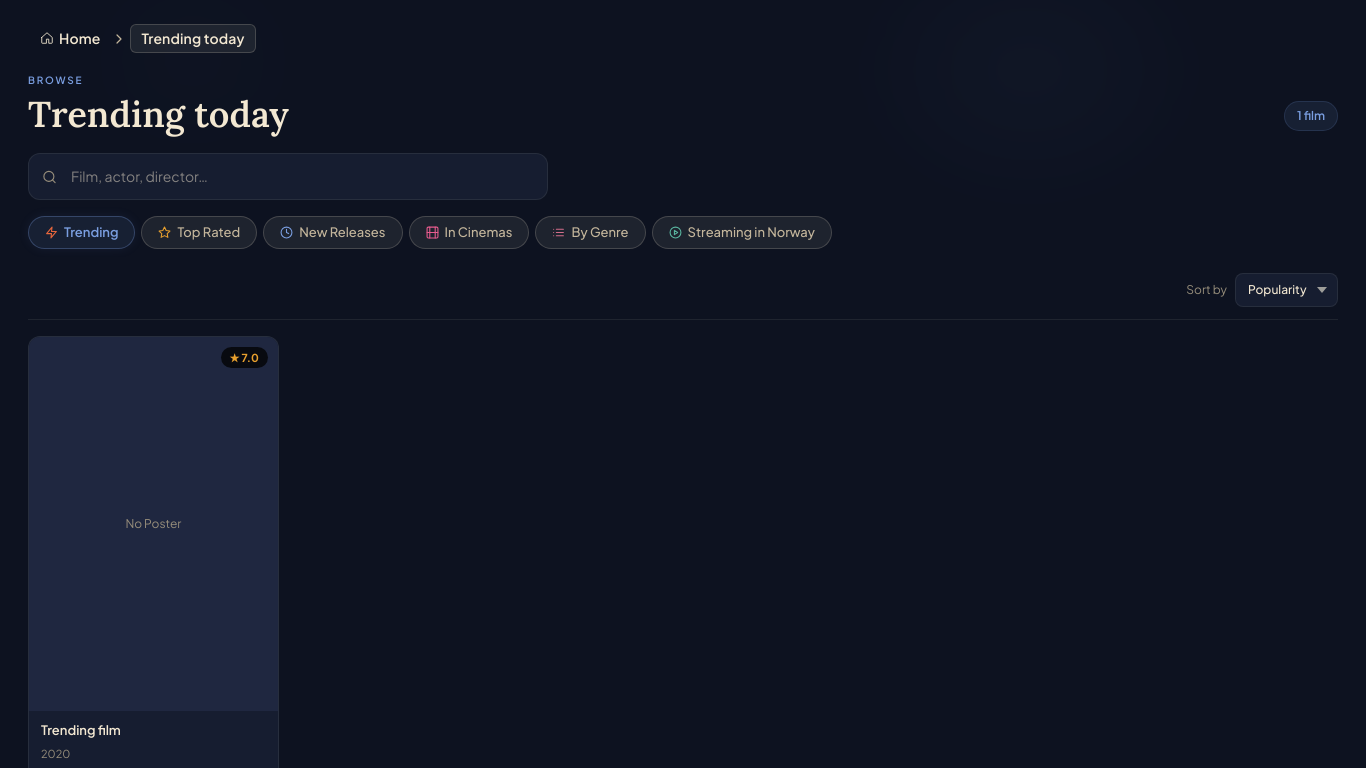
Test: /browse search › never lets an older search's late answer replace a newer one
Type "du" into the field named "Search films" at point(288, 177), box x1=28 y1=153 x2=548 y2=200
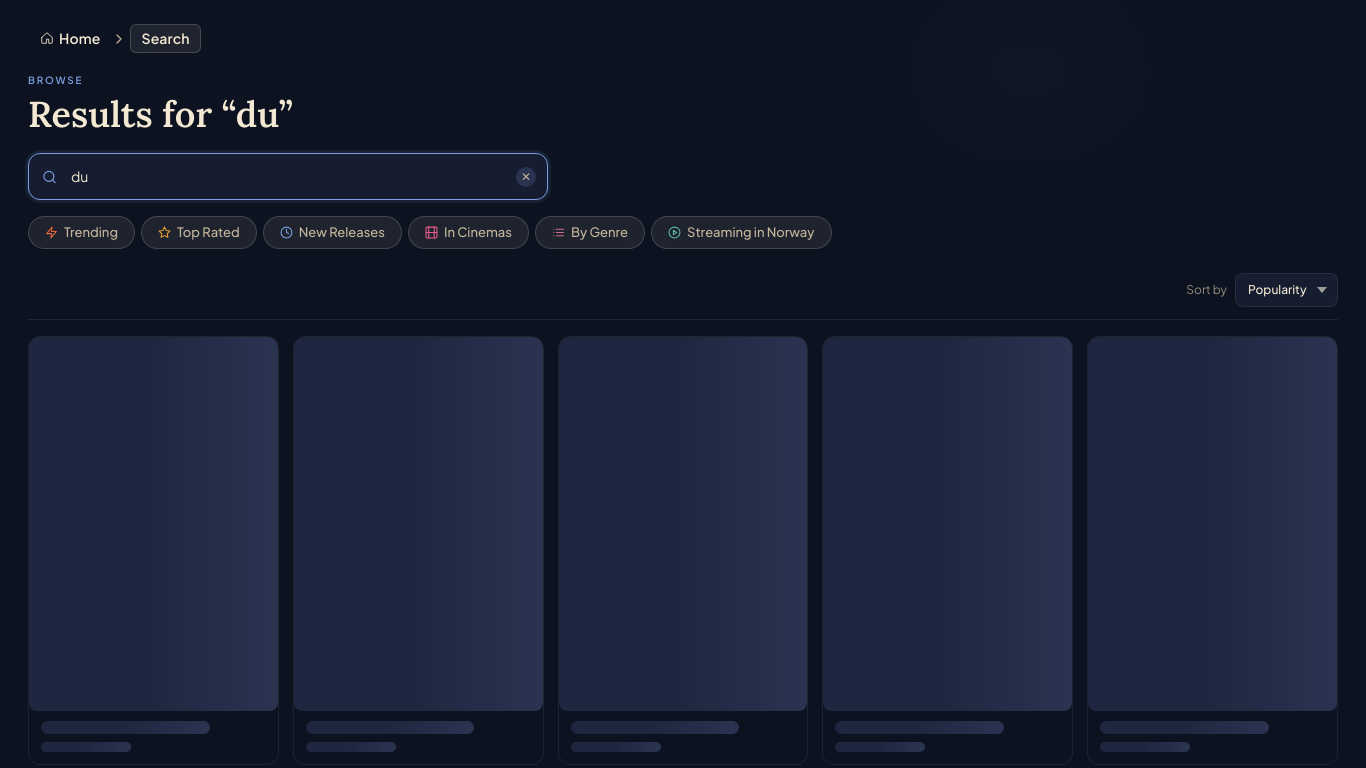
Type "ne" into the field named "Search films" at point(288, 177), box x1=28 y1=153 x2=548 y2=200
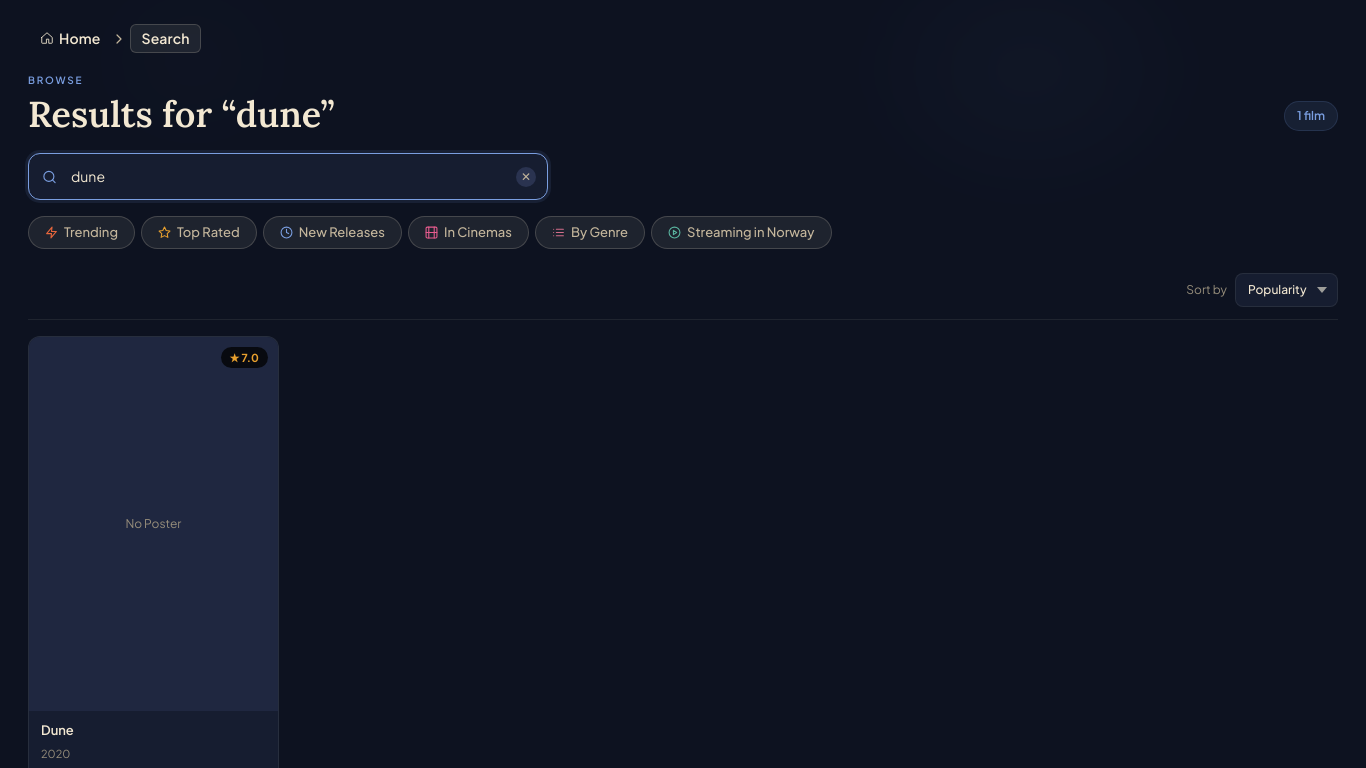
Check: the heading "Dune" is shown, box x1=41 y1=722 x2=74 y2=738
